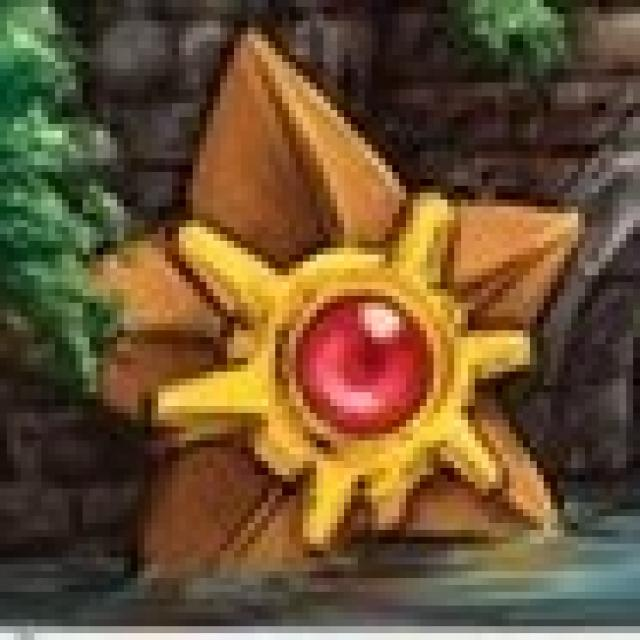Staryu: (80, 51, 579, 578)
